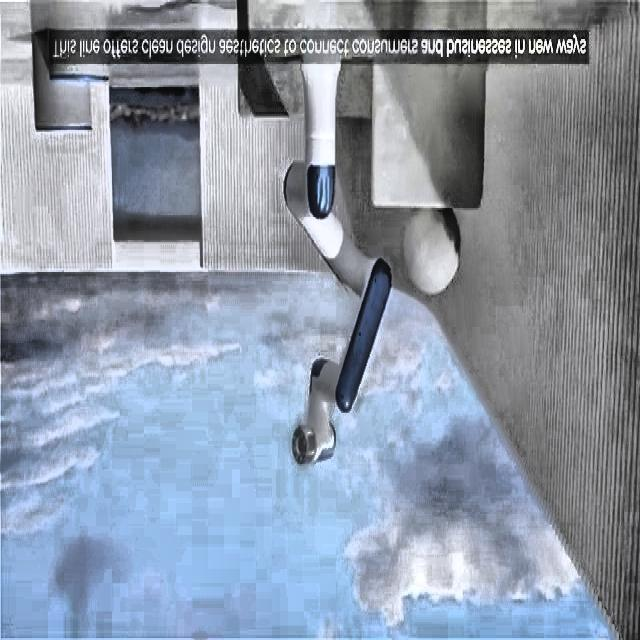robot: (282, 57, 392, 469)
